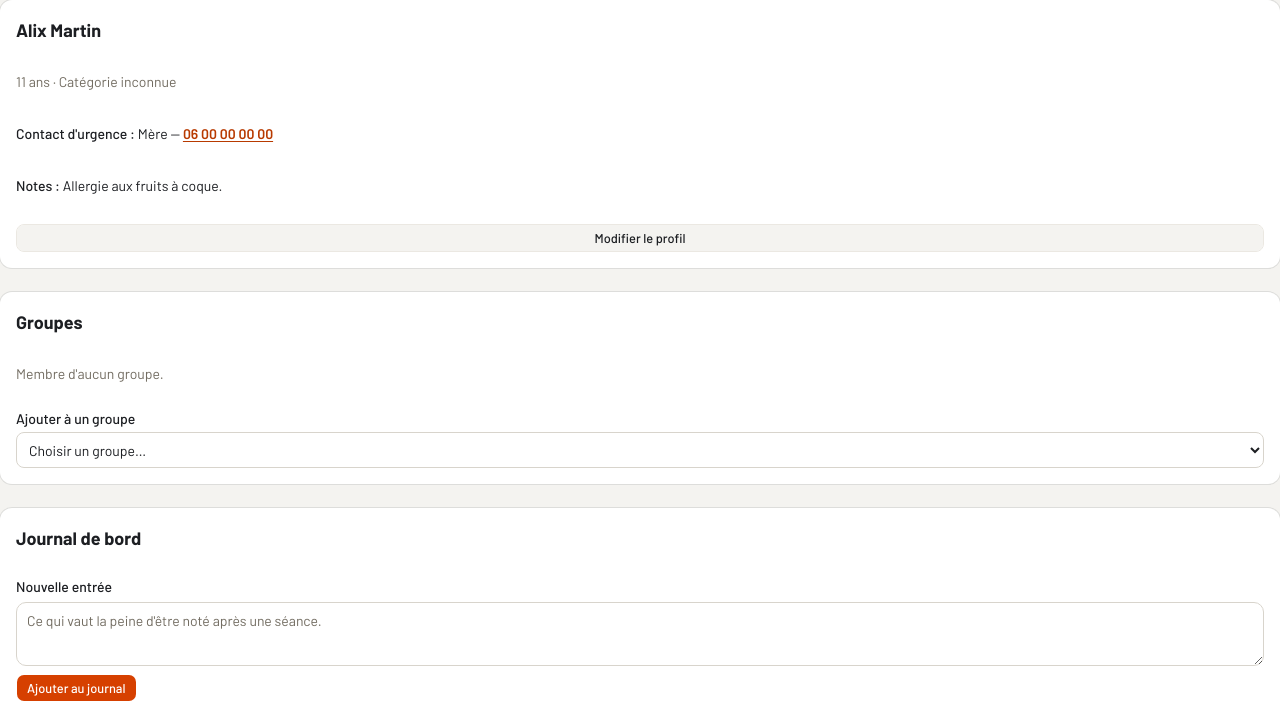
ProfileDetail › annonce la date de suppression pendant la saisie de la fin d'adhésion (#1158)
This screenshot has width=1280, height=720.
Click the button "Modifier le profil": (640, 238) [16, 224, 1264, 252]
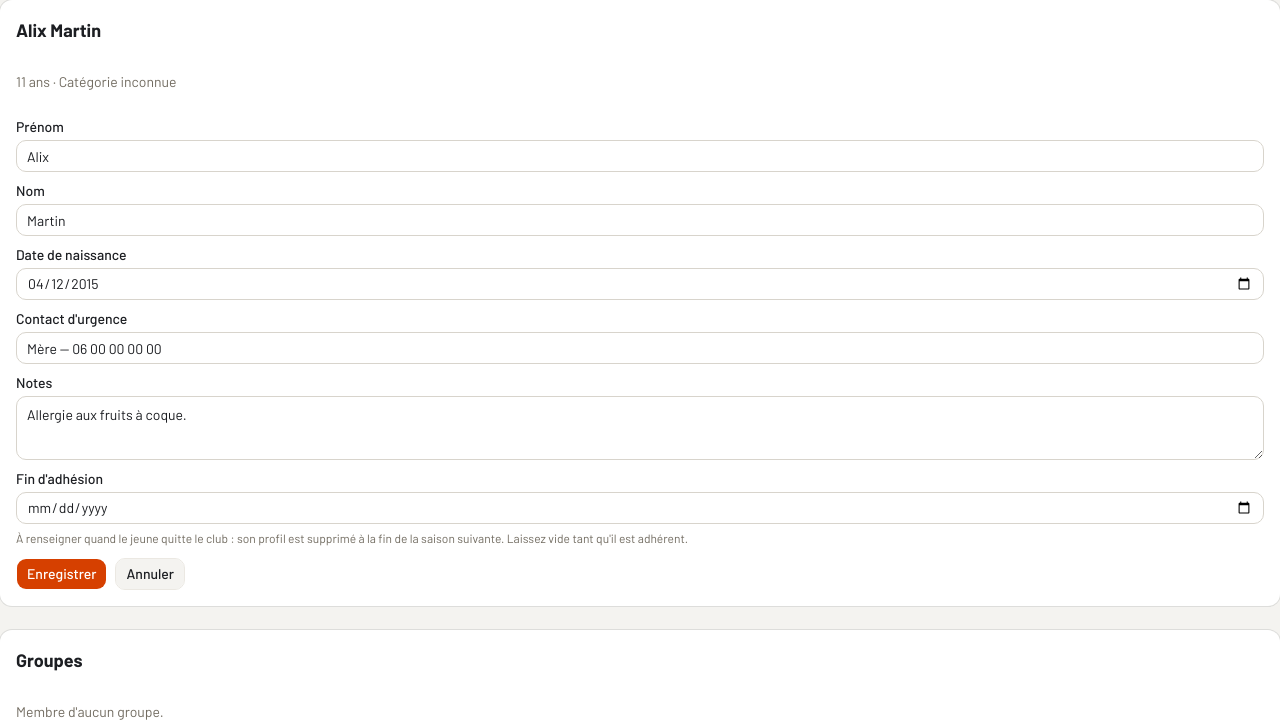
In the date field labelled "Fin d'adhésion": (640, 508) [16, 492, 1264, 524], type "2099-06-30"
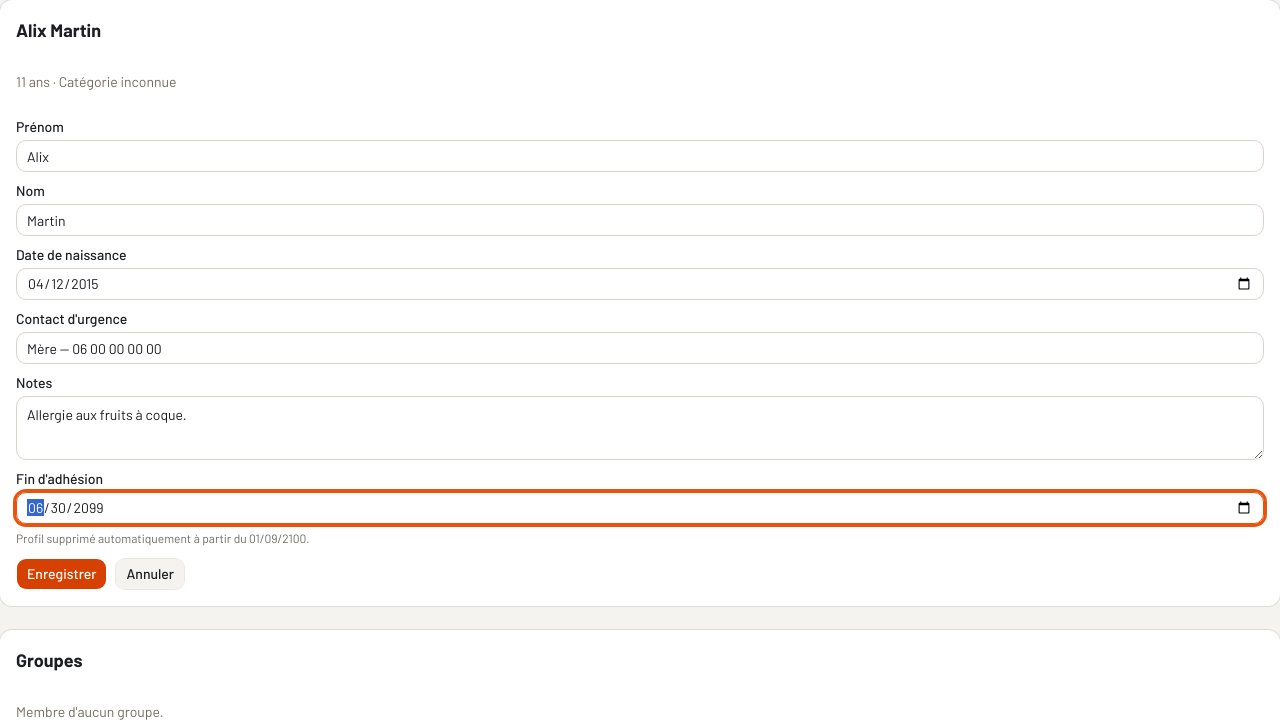
expect the text "Profil supprimé automatiquement à partir du 01/09/2100." is shown: met, box [16, 531, 310, 545]
